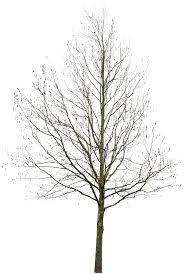tree: (6, 4, 180, 274)
